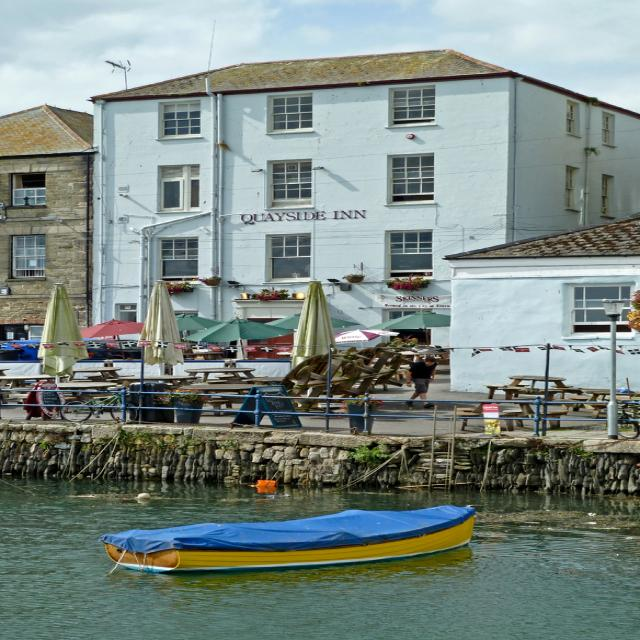Boat: (92, 496, 478, 571)
